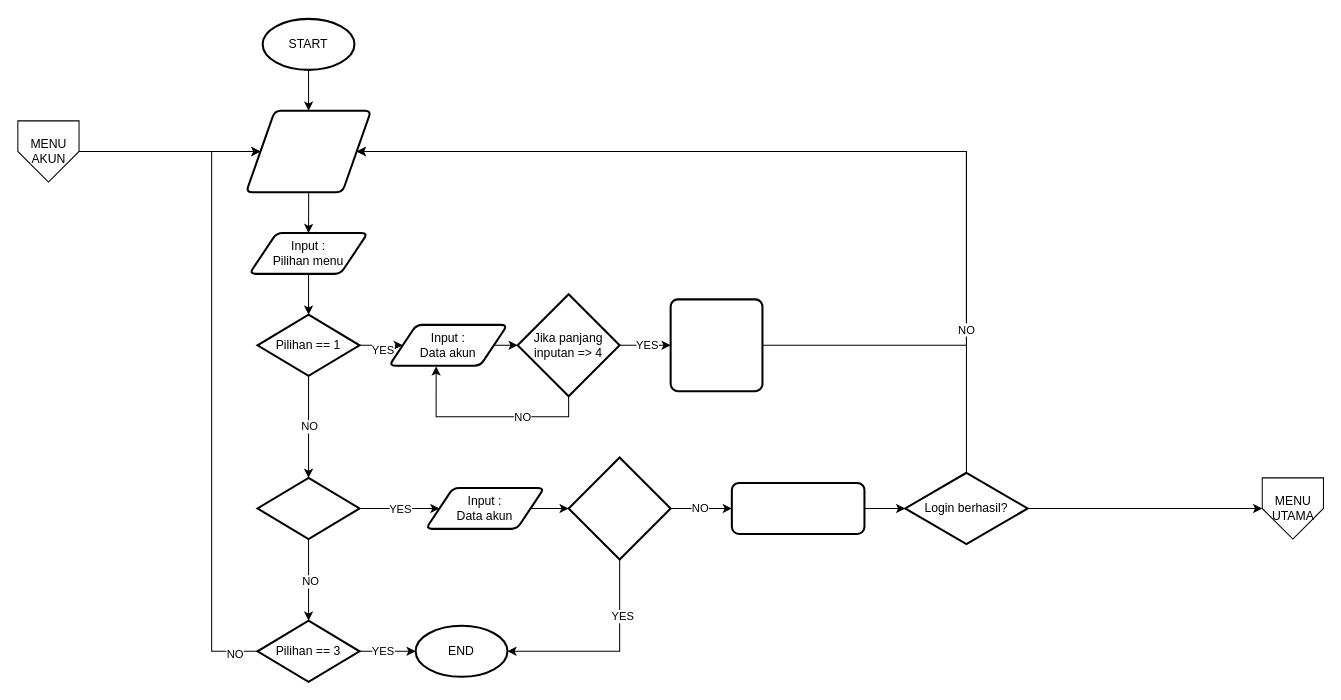
This 1341x700 diagram has some shape labels left out. Here are the shapes that lost their labels. From the top down, the centre of each, then its label:
the point at 308,151: Output : Menu Akun 1. Register 2. Login 3. Keluar
the point at 716,345: Terdaftar menjadi member. Menyimpan data akun
the point at 308,508: Pilihan == 2
the point at 619,508: salah input >= 3
the point at 797,507: Verifikasi/autentikasi
